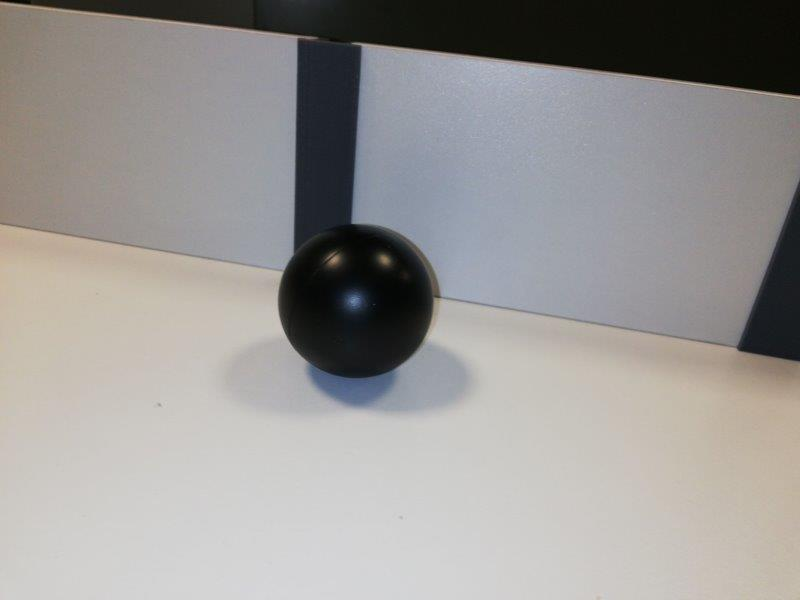nera: (275, 225, 435, 380)
